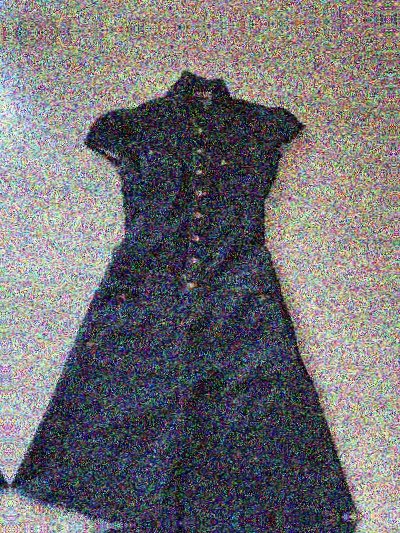Dress: (8, 68, 374, 528), (25, 518, 391, 533), (0, 532, 15, 533)
